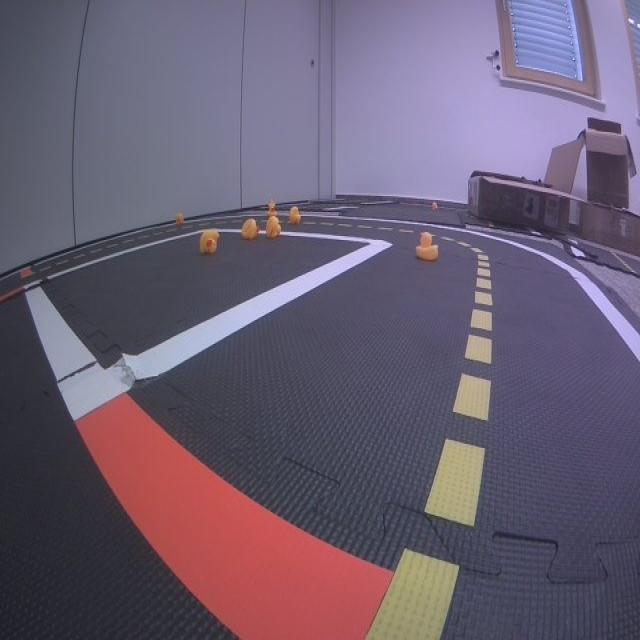duckie: (415, 231, 439, 261), (199, 229, 220, 256), (241, 218, 258, 240), (266, 216, 282, 239), (288, 206, 302, 224)
